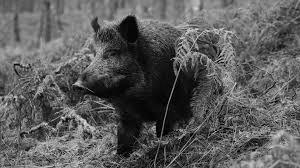wildboar: (69, 12, 195, 156)
